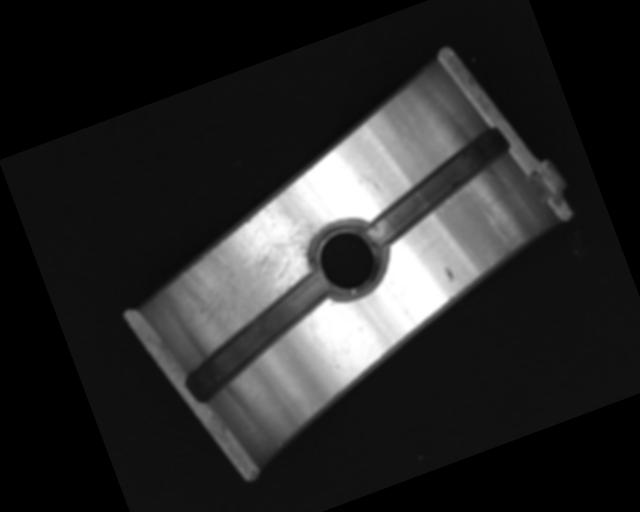bruise: (442, 263, 457, 283)
gap: (167, 271, 349, 406), (349, 123, 525, 248)
hole: (297, 208, 399, 312)
nick: (358, 165, 393, 210), (480, 204, 512, 253)
scratch: (150, 169, 358, 352)
